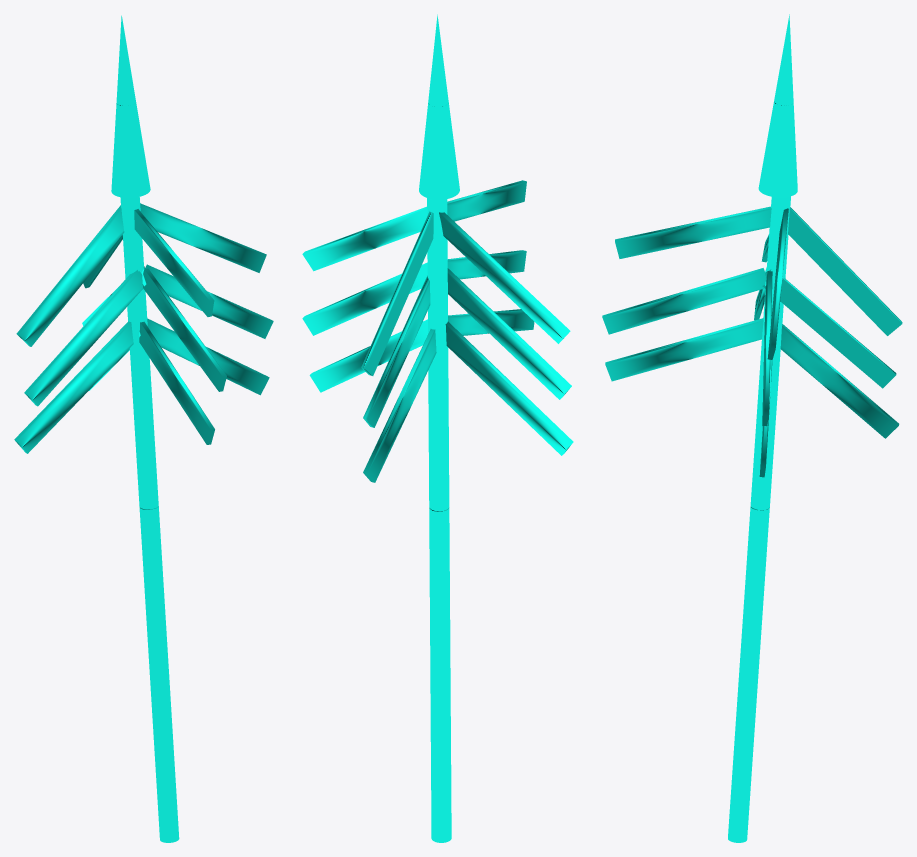
File: Ice_spear.fbx
3 renders of one model, left to right at view 1: azimuth 30°, elevation 25°; view 2: azimuth 150°, elevation 25°; view 3: azimuth 270°, elevation 25°, orthographic. The views are drawn at different scales.
Parts seen in each view (by area): view 1: p.0008, p.0009, s.0045, s.0033, s.0049, s.0050, s.0044, s.0032, s.0046, s.0048, s.0034; view 2: p.0008, p.0009, s.0033, s.0045, s.0049, s.0050, s.0031, s.0047, s.0046, s.0043, s.0034, s.0048 (+2 smaller); view 3: p.0008, p.0009, s.0044, s.0032, s.0048, s.0047, s.0031, s.0043, s.0050, s.0046.
Part boxes in pixels (x1=…): p.0008: x1=120, y1=197, x2=179, y2=842; p.0009: x1=111, y1=15, x2=150, y2=197; s.0045: x1=24, y1=270, x2=142, y2=406; s.0033: x1=14, y1=321, x2=133, y2=453; s.0049: x1=16, y1=205, x2=124, y2=346; s.0050: x1=140, y1=203, x2=266, y2=272; s.0044: x1=142, y1=268, x2=226, y2=391; s.0032: x1=139, y1=321, x2=214, y2=444; s.0046: x1=145, y1=264, x2=273, y2=338; s.0048: x1=134, y1=209, x2=214, y2=316; s.0034: x1=147, y1=318, x2=269, y2=395; p.0008: x1=427, y1=198, x2=451, y2=842; p.0009: x1=419, y1=14, x2=459, y2=199; s.0033: x1=445, y1=321, x2=573, y2=455; s.0045: x1=447, y1=268, x2=571, y2=399; s.0049: x1=439, y1=212, x2=570, y2=343; s.0050: x1=302, y1=206, x2=427, y2=271; s.0031: x1=363, y1=329, x2=436, y2=482; s.0047: x1=361, y1=211, x2=433, y2=375; s.0046: x1=302, y1=262, x2=427, y2=335; s.0043: x1=363, y1=275, x2=430, y2=427; s.0034: x1=309, y1=319, x2=427, y2=392; s.0048: x1=447, y1=180, x2=526, y2=221; p.0008: x1=728, y1=196, x2=790, y2=842; p.0009: x1=758, y1=14, x2=797, y2=197; s.0044: x1=602, y1=268, x2=766, y2=334; s.0032: x1=605, y1=318, x2=763, y2=381; s.0048: x1=615, y1=206, x2=771, y2=258; s.0047: x1=788, y1=207, x2=902, y2=335; s.0031: x1=780, y1=324, x2=899, y2=438; s.0043: x1=762, y1=269, x2=896, y2=388; s.0050: x1=767, y1=208, x2=788, y2=359; s.0046: x1=762, y1=271, x2=772, y2=426.
Bounding box in the file's own units: 189 × 569 × 190.
